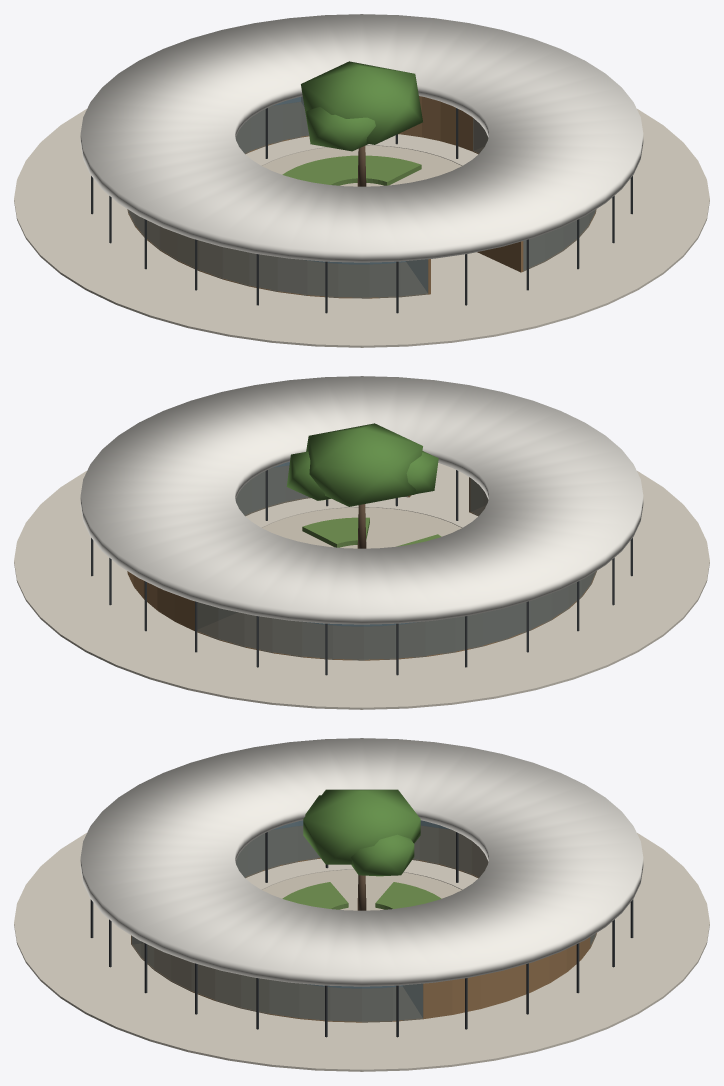
File: rotunda-restaurant.glb
3 renders of one model, top to bottom at view 1: azimuth 30°, elevation 25°; view 2: azimuth 150°, elevation 25°; view 3: azimuth 270°, elevation 25°, orthographic.
Visible parts, largest first — view 1: Rotunda Restaurant | Restaurant roof white, Rotunda Restaurant | Restaurant paving, Rotunda Restaurant | Restaurant timber, Rotunda Restaurant | Restaurant glass, Rotunda Restaurant | Restaurant canopy, Rotunda Restaurant | Restaurant planting, Rotunda Restaurant | Restaurant court paving, Rotunda Restaurant | Restaurant mullion; view 2: Rotunda Restaurant | Restaurant roof white, Rotunda Restaurant | Restaurant paving, Rotunda Restaurant | Restaurant timber, Rotunda Restaurant | Restaurant glass, Rotunda Restaurant | Restaurant canopy, Rotunda Restaurant | Restaurant court paving, Rotunda Restaurant | Restaurant mullion, Rotunda Restaurant | Restaurant planting; view 3: Rotunda Restaurant | Restaurant roof white, Rotunda Restaurant | Restaurant paving, Rotunda Restaurant | Restaurant timber, Rotunda Restaurant | Restaurant glass, Rotunda Restaurant | Restaurant canopy, Rotunda Restaurant | Restaurant court paving, Rotunda Restaurant | Restaurant planting, Rotunda Restaurant | Restaurant mullion.
Boxes of the visible parts, x1,y1,x2,y2 form: Rotunda Restaurant | Restaurant roof white: (80,14,643,262); Rotunda Restaurant | Restaurant paving: (14,109,709,347); Rotunda Restaurant | Restaurant timber: (127,96,596,298); Rotunda Restaurant | Restaurant glass: (127,96,596,298); Rotunda Restaurant | Restaurant canopy: (301,61,422,151); Rotunda Restaurant | Restaurant planting: (282,155,421,185); Rotunda Restaurant | Restaurant court paving: (262,145,461,186); Rotunda Restaurant | Restaurant mullion: (91,108,632,313); Rotunda Restaurant | Restaurant roof white: (80,376,643,624); Rotunda Restaurant | Restaurant paving: (14,463,709,709); Rotunda Restaurant | Restaurant timber: (127,465,596,660); Rotunda Restaurant | Restaurant glass: (197,461,596,660); Rotunda Restaurant | Restaurant canopy: (286,423,438,506); Rotunda Restaurant | Restaurant court paving: (262,507,461,548); Rotunda Restaurant | Restaurant mullion: (91,470,632,675); Rotunda Restaurant | Restaurant planting: (302,517,441,547); Rotunda Restaurant | Restaurant roof white: (80,738,643,986); Rotunda Restaurant | Restaurant paving: (14,833,709,1071); Rotunda Restaurant | Restaurant timber: (131,826,596,1022); Rotunda Restaurant | Restaurant glass: (131,820,596,1022); Rotunda Restaurant | Restaurant canopy: (303,789,420,876); Rotunda Restaurant | Restaurant court paving: (262,869,461,910); Rotunda Restaurant | Restaurant planting: (282,882,441,909); Rotunda Restaurant | Restaurant mullion: (90,832,633,1037).
Size of the model in its own units: 46.52 by 9.9 by 46.52.
